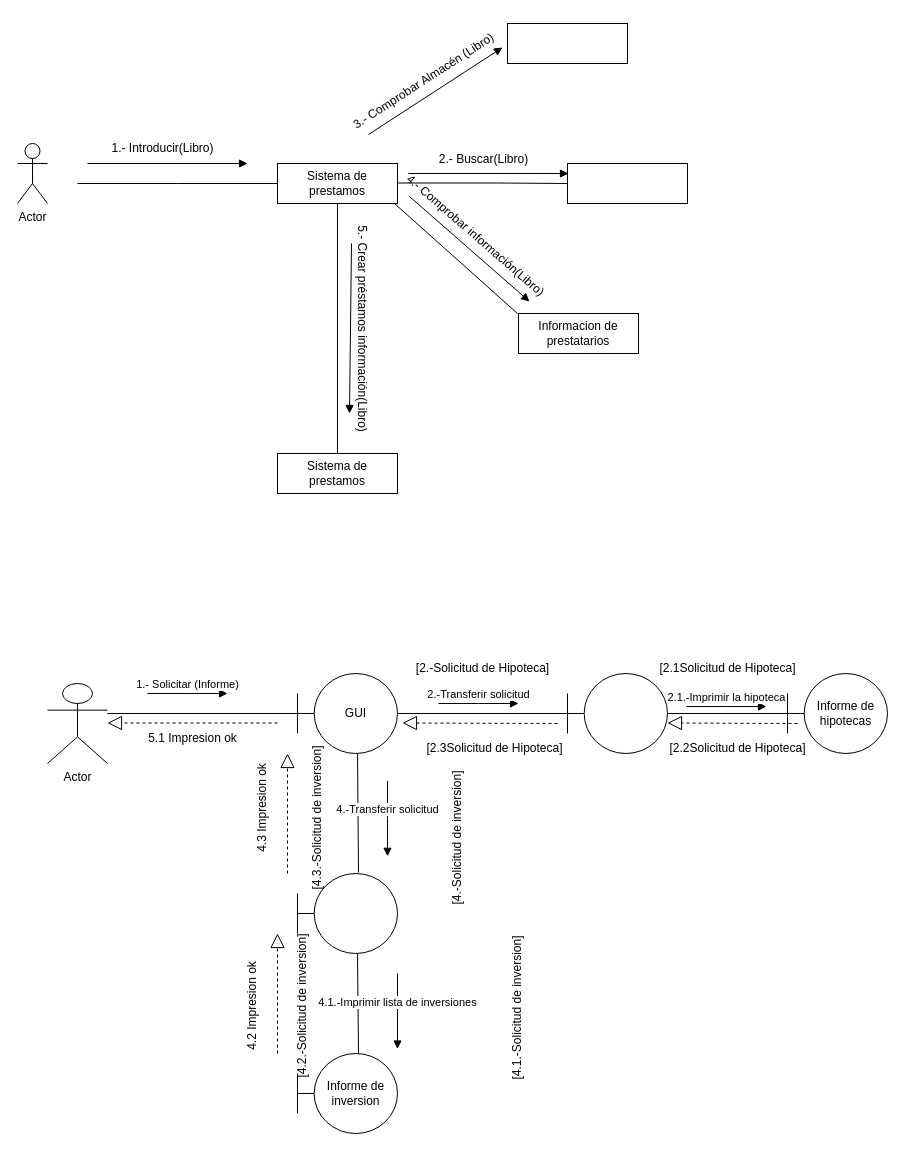
Image size: 905x1151. Some labels were removed from this diagram. The centre of each missing label's shape, as x and y in pixels:
Almacen: the point at 567,43
Hipotecas: the point at 617,713
Inversion: the point at 347,913
Listado de títulos: the point at 627,183
